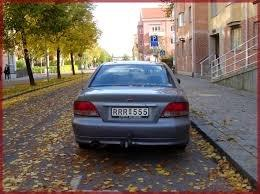license-plates: (112, 108, 149, 117)
